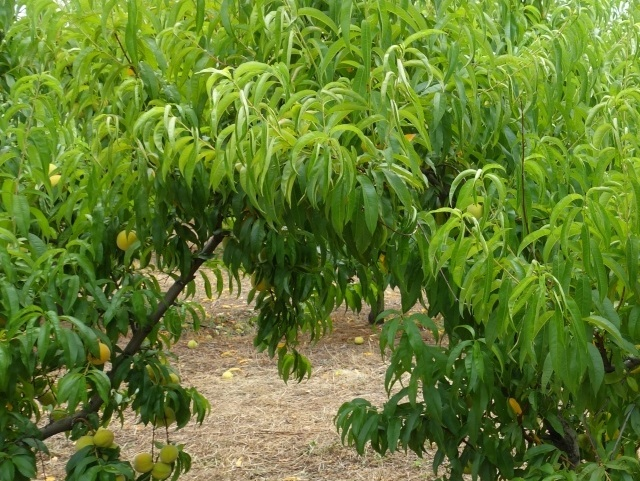peach: (113, 226, 141, 255), (85, 342, 112, 368), (131, 450, 159, 475), (152, 406, 179, 430), (69, 432, 97, 455), (246, 270, 271, 295), (155, 442, 183, 464), (91, 428, 116, 450)
